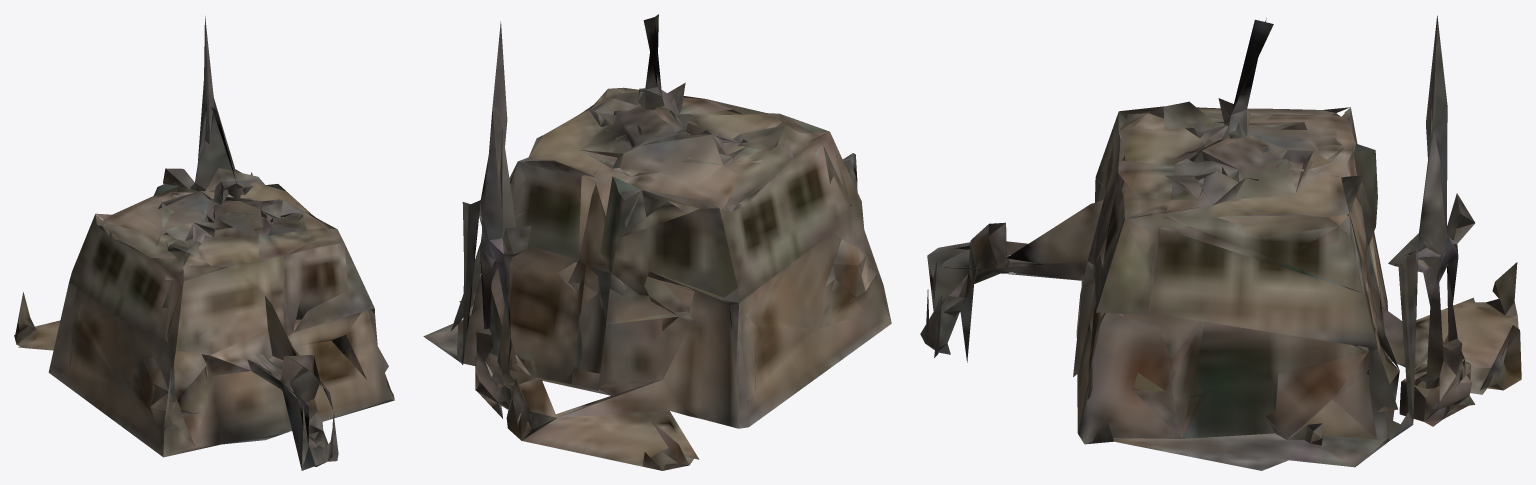
File: outpost_1739388569_lod0m.glb
3 views of the same model, side by side, from view 1: azimuth 30°, elevation 25°; view 2: azimuth 150°, elevation 25°; view 3: azimuth 270°, elevation 25° (orthographic). The views are drawn at different scales.
Size of the model in its own units: 6.99 by 7.5 by 9.98.
Materials: 1 (1 with a texture image).
